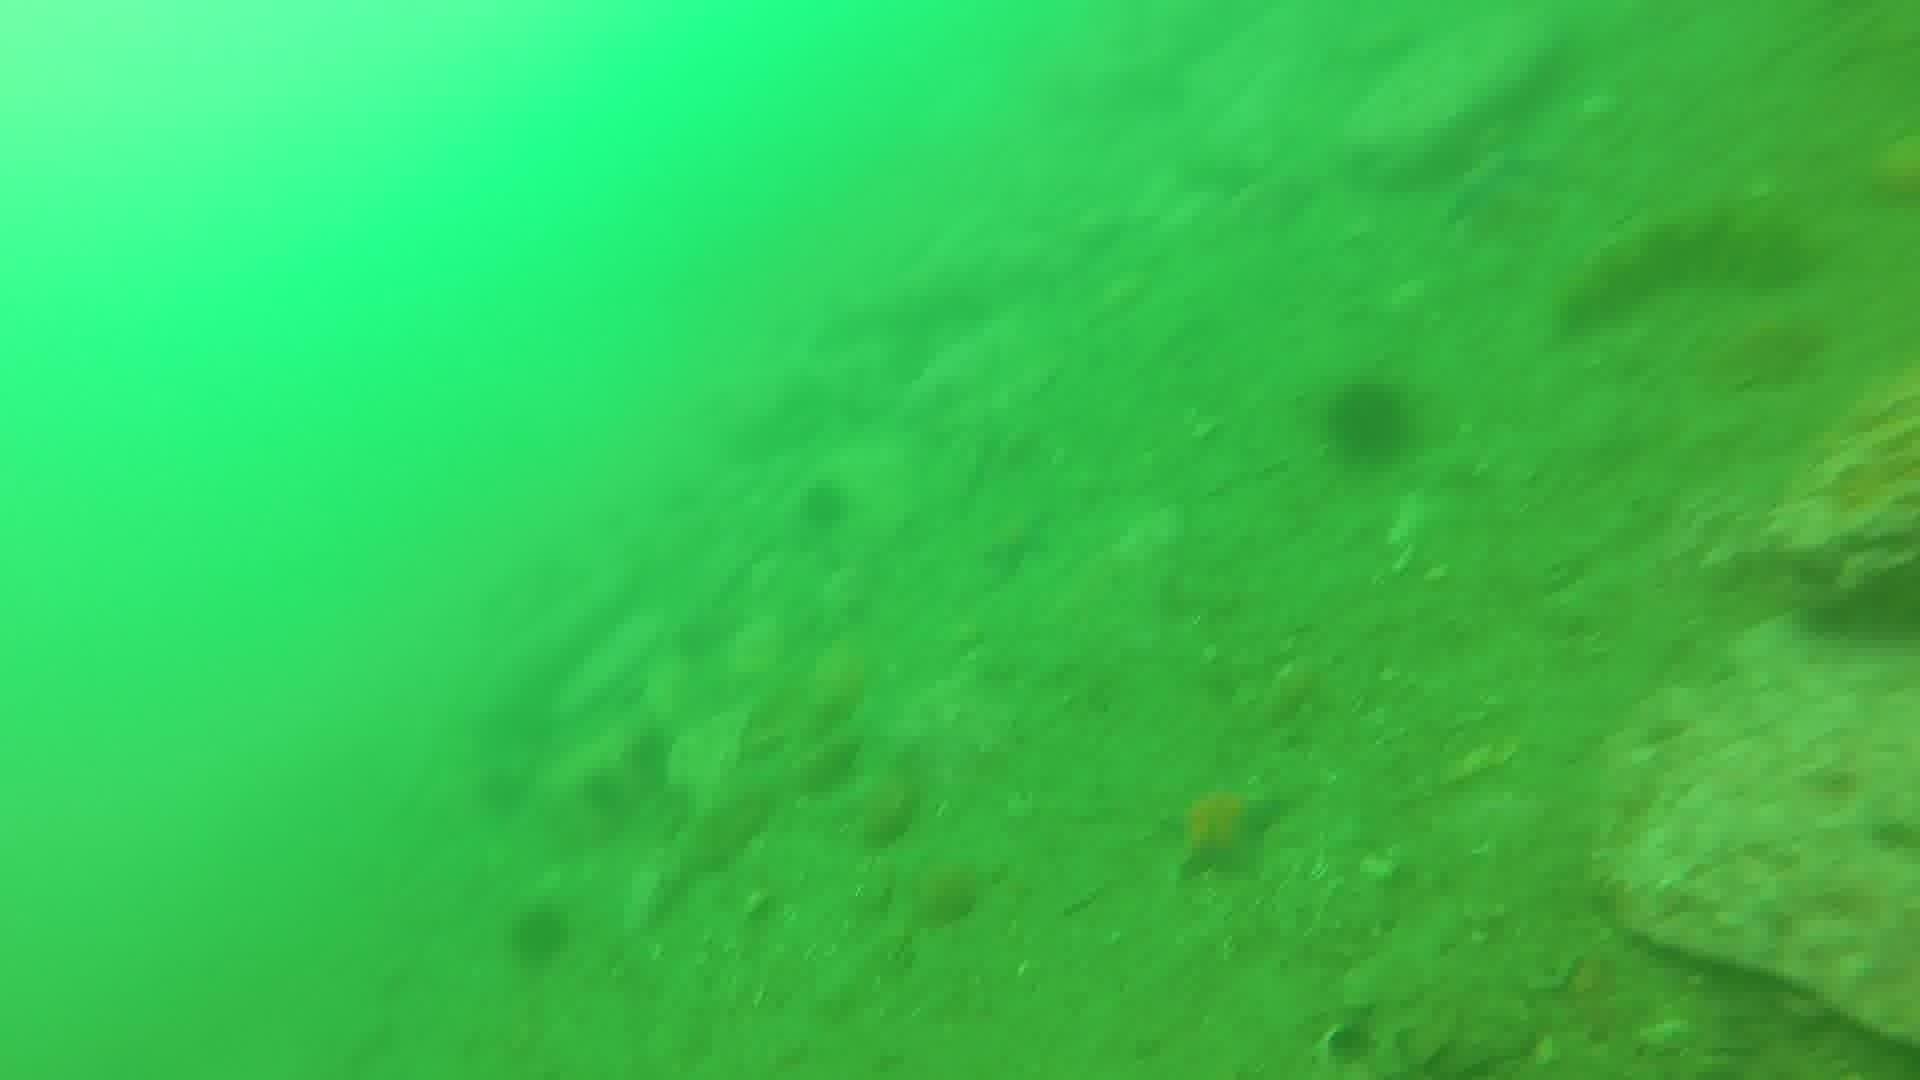echinus: (1319, 375, 1419, 469), (502, 899, 576, 971), (469, 760, 537, 822), (791, 473, 856, 535)
holothurian: (1551, 198, 1815, 334)
starfish: (1159, 771, 1294, 885), (975, 500, 1058, 582)
